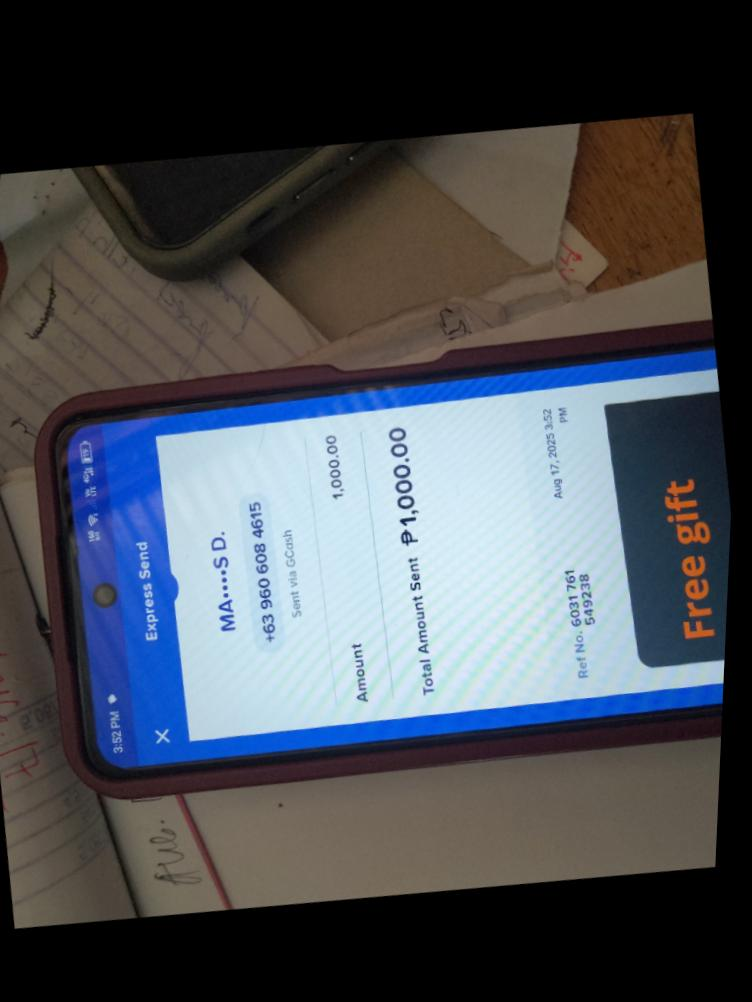Receipt: (114, 351, 731, 760)
